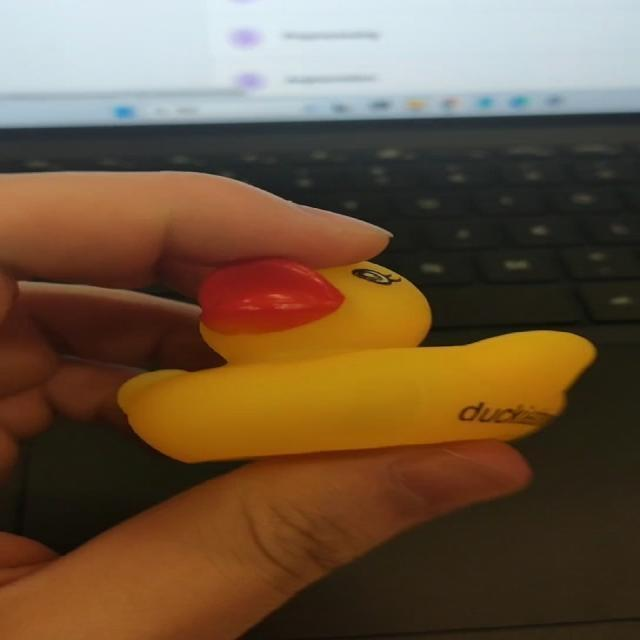rubber-duck: (117, 259, 594, 460)
